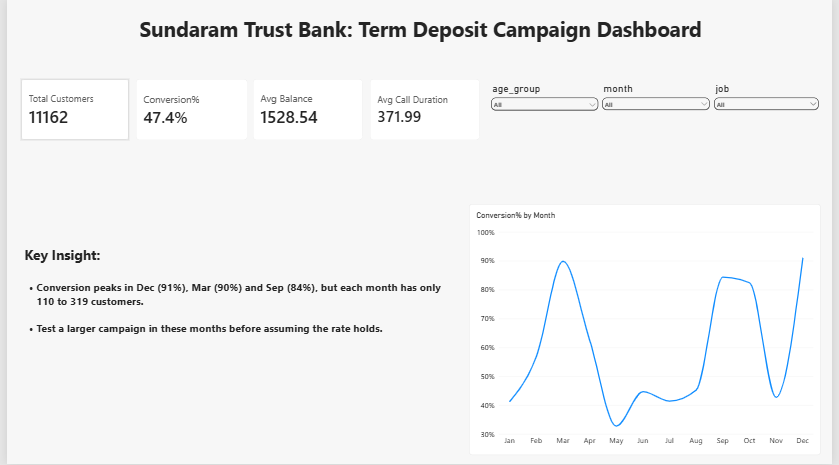

The page's visual inventory and layout, read from the dashboard file:
{"tool":"powerbi","page":{"name":"Overview","canvas":[1920,1080],"ordinal":0},"visuals":[{"type":"cardVisual","fields":{"Data":["CountNonNull(Bank.age)"]},"box":[31.5,183.3,251.9,142.6],"z":0},{"type":"cardVisual","fields":{"Data":["Bank.Conversion%"]},"box":[300,183.3,259.3,142.6],"z":1},{"type":"cardVisual","fields":{"Data":["Avg(Bank.balance)"]},"box":[572.2,183.3,255.6,142.6],"z":2},{"type":"cardVisual","fields":{"Data":["Avg(Bank.duration)"]},"box":[844.4,183.3,255.6,142.6],"z":3},{"type":"lineChart","fields":{"Category":["Bank.Months"],"Y":["Bank.Conversion%"]},"box":[942.9,411.9,950,611.9],"z":4},{"type":"textbox","box":[31,588.1,869,435.7],"z":8},{"type":"slicer","fields":{"Values":["Bank.age_group"]},"box":[1120.4,192.6,259.3,125.9],"z":9},{"type":"slicer","fields":{"Values":["Bank.month"]},"box":[1380,192,259.3,103.7],"z":10},{"type":"slicer","fields":{"Values":["Bank.job"]},"box":[1640,192.5,252.5,117.5],"z":11},{"type":"textbox","box":[31.9,27.7,1859.6,125.5],"z":12}]}

Visuals, with their boxes in screenshot pixels (x1, y1, x2, y2), scaled from the page's 1920x1080 canvas onto the 839x465 screenshot:
cardVisual - CountNonNull(Bank.age): 14/79/124/140
cardVisual - Bank.Conversion%: 131/79/244/140
cardVisual - Avg(Bank.balance): 250/79/362/140
cardVisual - Avg(Bank.duration): 369/79/481/140
lineChart - Bank.Months x Bank.Conversion%: 412/177/827/441
textbox: 14/253/393/441
slicer - Bank.age_group: 490/83/603/137
slicer - Bank.month: 603/83/716/127
slicer - Bank.job: 717/83/827/133
textbox: 14/12/827/66
